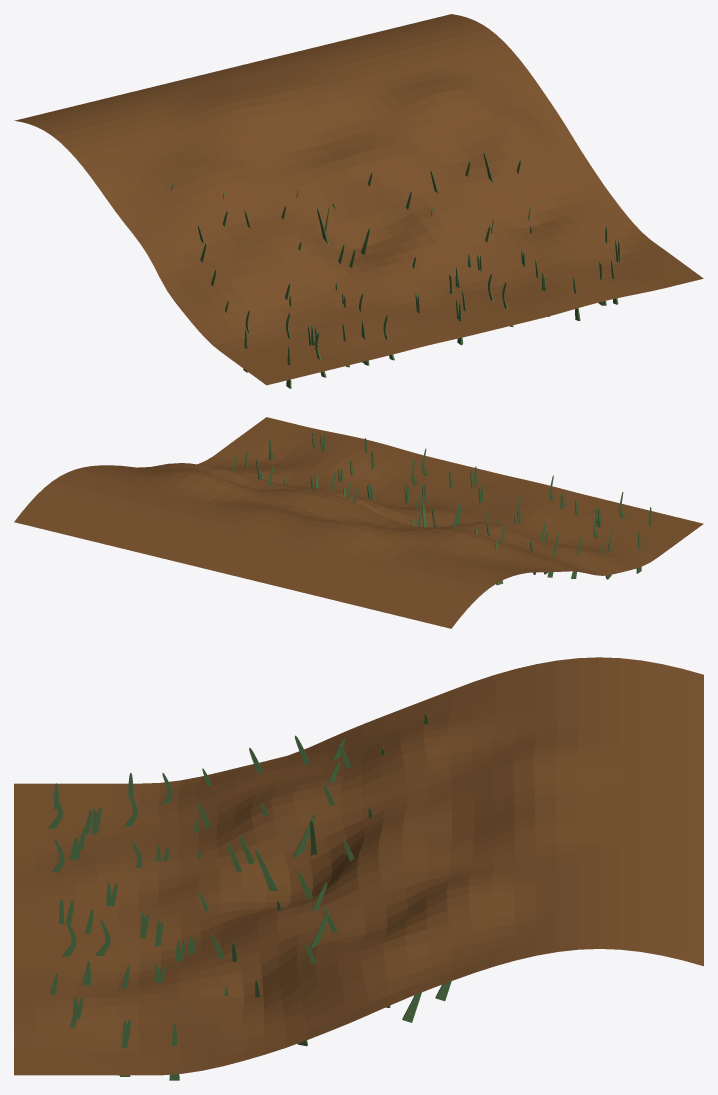
Rendered from Army_Ground.fbx.
3 renders of one model, top to bottom at view 1: azimuth 30°, elevation 25°; view 2: azimuth 150°, elevation 25°; view 3: azimuth 270°, elevation 25°, orthographic. The views are drawn at different scales.
Visible parts, largest first — view 1: Plane.001; view 2: Plane.001; view 3: Plane.001.
Boxes of the visible parts, x1,y1,x2,y2 form: Plane.001: (14,14,703,385); Plane.001: (14,417,703,628); Plane.001: (14,657,703,1075).
Bounding box in the file's own units: 2224 × 586 × 2222.
